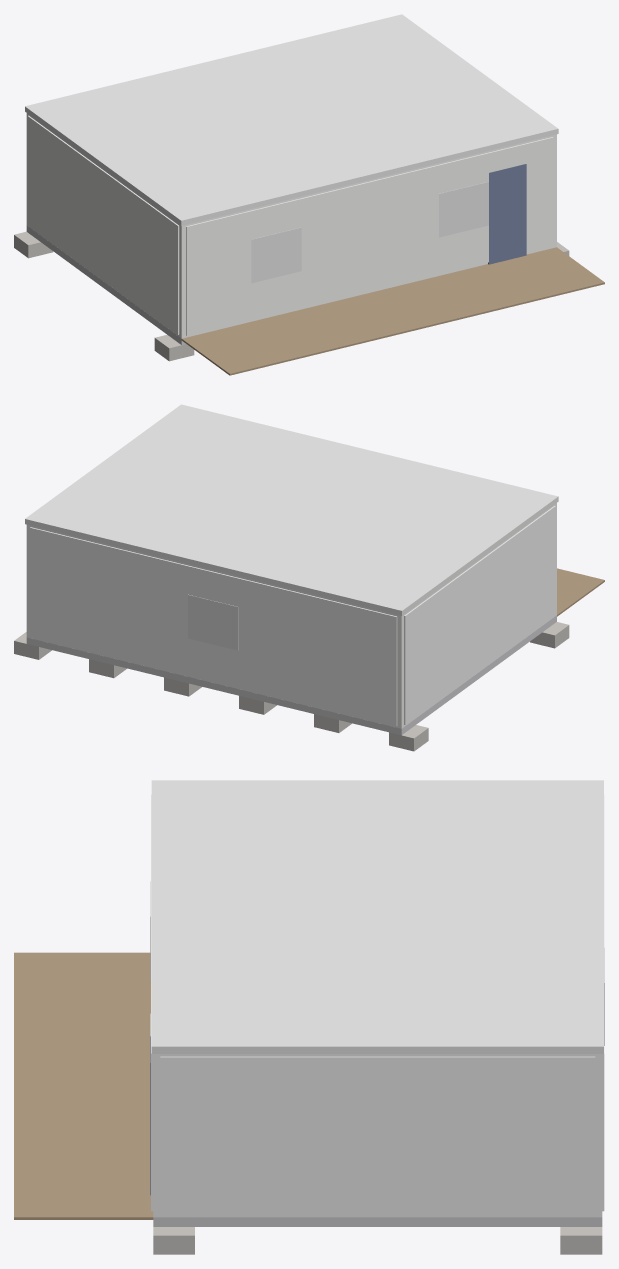
The model's file is Studio-30-TerraceDeck-LOD1.glb.
3 views of the same model, one above another, from view 1: azimuth 30°, elevation 25°; view 2: azimuth 150°, elevation 25°; view 3: azimuth 270°, elevation 25° (orthographic). The views are drawn at different scales.
Visible parts, largest first — view 1: RoofMain, ExteriorPanelsStandard, TerraceDeck, WindowsStandard, EntryDoor, ExteriorShell, FoundationBlocks, BaseFrame; view 2: RoofMain, ExteriorPanelsStandard, BaseFrame, FoundationBlocks, ExteriorShell, WindowsStandard, TerraceDeck; view 3: RoofMain, ExteriorPanelsStandard, TerraceDeck, ExteriorShell, BaseFrame, FoundationBlocks.
Boxes of the visible parts, x1=… form: RoofMain: x1=25, y1=14, x2=558, y2=225; ExteriorPanelsStandard: x1=27, y1=115, x2=553, y2=335; TerraceDeck: x1=181, y1=247, x2=604, y2=375; WindowsStandard: x1=251, y1=181, x2=488, y2=283; EntryDoor: x1=488, y1=164, x2=526, y2=264; ExteriorShell: x1=26, y1=113, x2=556, y2=338; FoundationBlocks: x1=14, y1=231, x2=569, y2=361; BaseFrame: x1=26, y1=225, x2=185, y2=344; RoofMain: x1=25, y1=404, x2=558, y2=615; ExteriorPanelsStandard: x1=30, y1=506, x2=555, y2=726; BaseFrame: x1=26, y1=615, x2=556, y2=735; FoundationBlocks: x1=14, y1=622, x2=569, y2=751; ExteriorShell: x1=26, y1=503, x2=556, y2=728; WindowsStandard: x1=188, y1=594, x2=238, y2=650; TerraceDeck: x1=557, y1=568, x2=604, y2=616; RoofMain: x1=151, y1=780, x2=603, y2=1053; ExteriorPanelsStandard: x1=151, y1=794, x2=604, y2=1215; TerraceDeck: x1=14, y1=952, x2=153, y2=1219; ExteriorShell: x1=153, y1=1054, x2=602, y2=1217; BaseFrame: x1=153, y1=1217, x2=602, y2=1226; FoundationBlocks: x1=153, y1=1227, x2=602, y2=1254.
Size of the model in its own units: 9.6 by 3.17 by 8.49.
